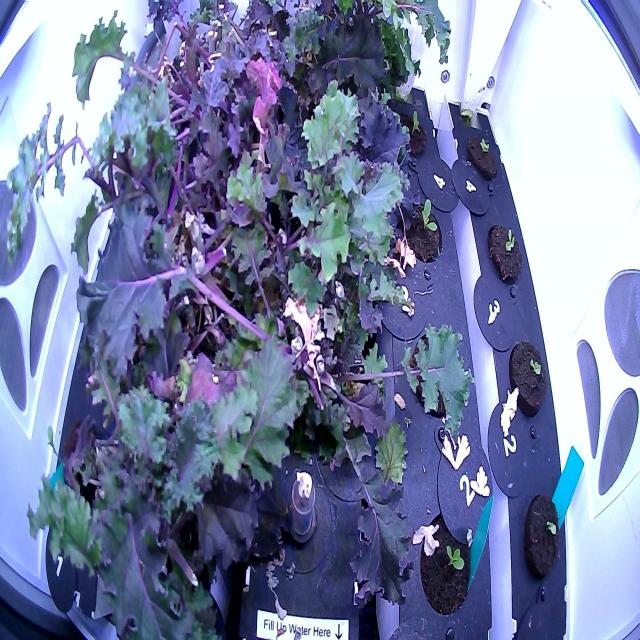germination: (415, 507, 478, 627), (520, 487, 563, 592), (505, 332, 549, 428), (399, 195, 445, 275), (484, 218, 526, 295), (390, 100, 430, 162), (463, 127, 502, 184)
